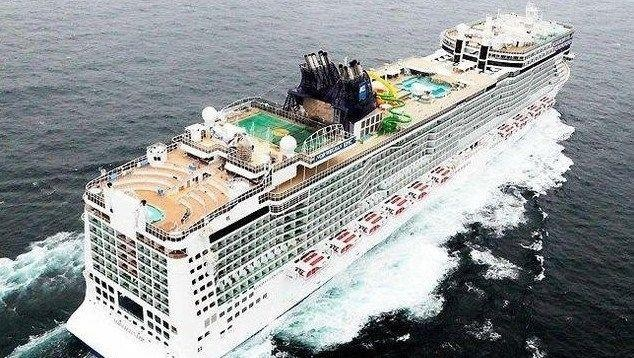youlun: (62, 4, 578, 356)
